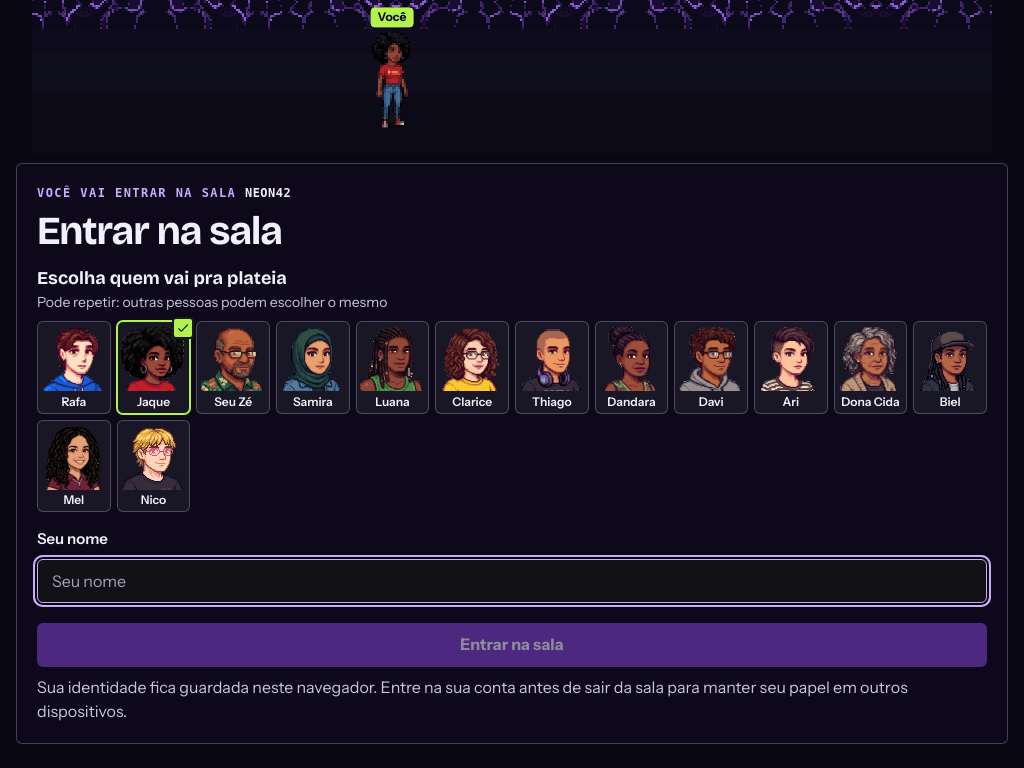
Scenario: RoomClient join failure states (#190) › renders the distinct auth/token failure state in the alert
The image size is (1024, 768).
(page scrolled)
Type "Alice" into the field labelled "Seu nome" at (512,581), box left=37, top=559, right=987, bottom=603
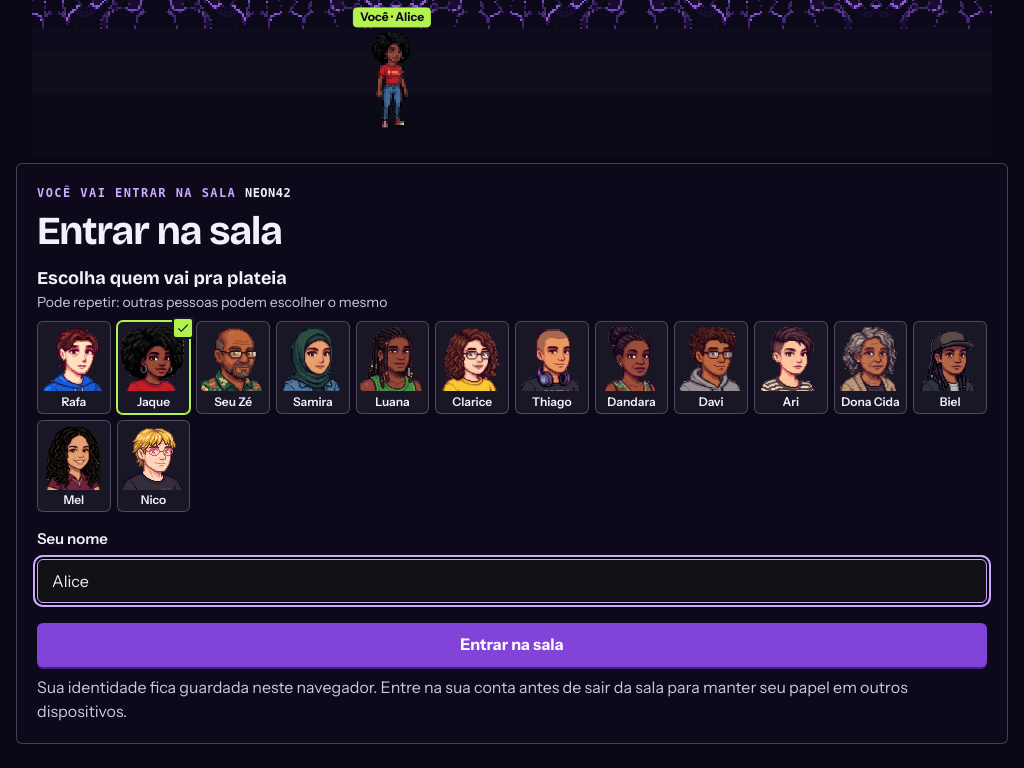
Click the button "Entrar na sala" at (512,645), box left=37, top=623, right=987, bottom=667
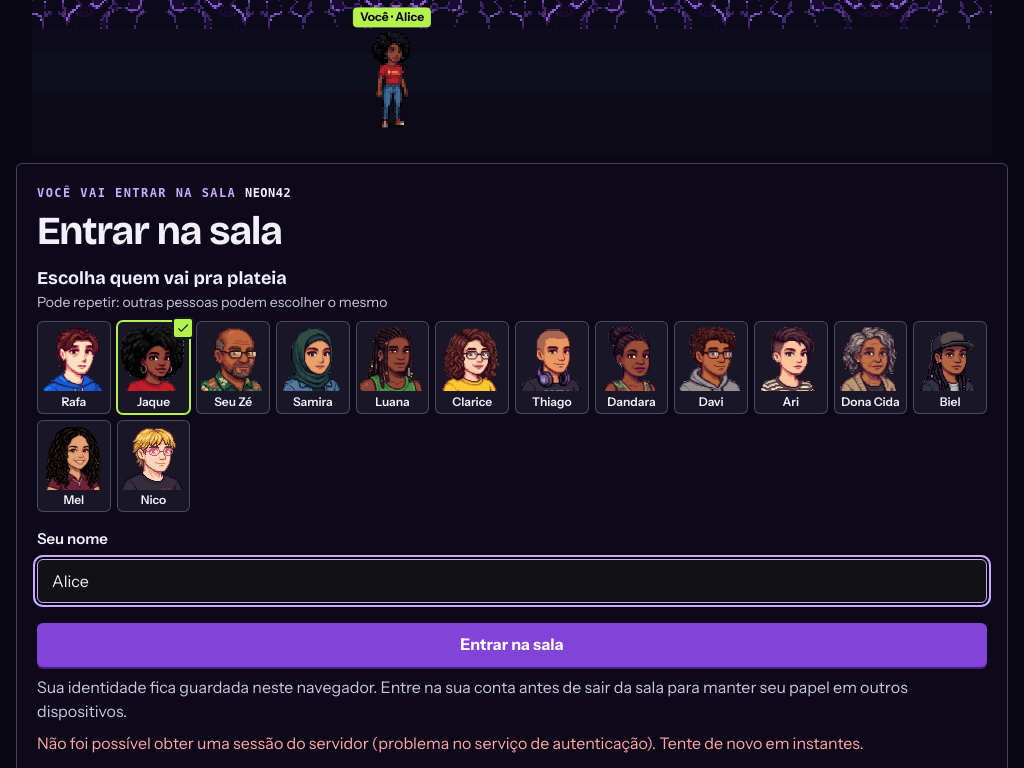
Now the message shows "Não foi possível obter uma sessão do servidor (problema no serviço de autenticação). Tente de novo em instantes.", box left=37, top=733, right=864, bottom=753
